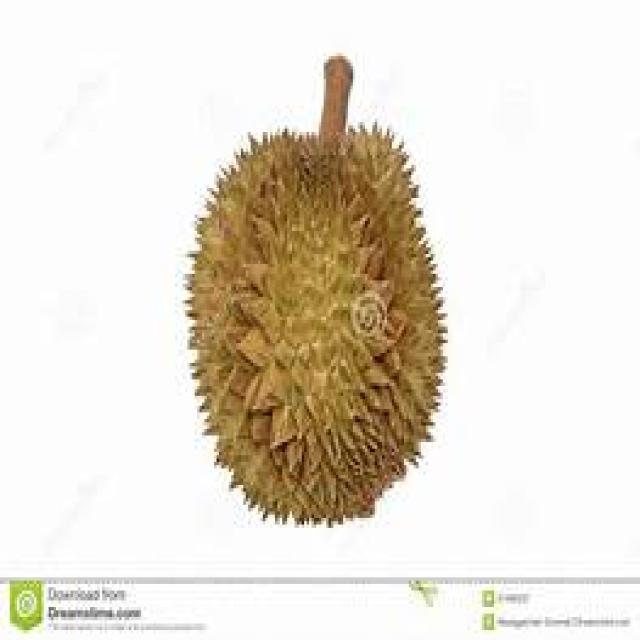mature: (188, 130, 445, 523)
